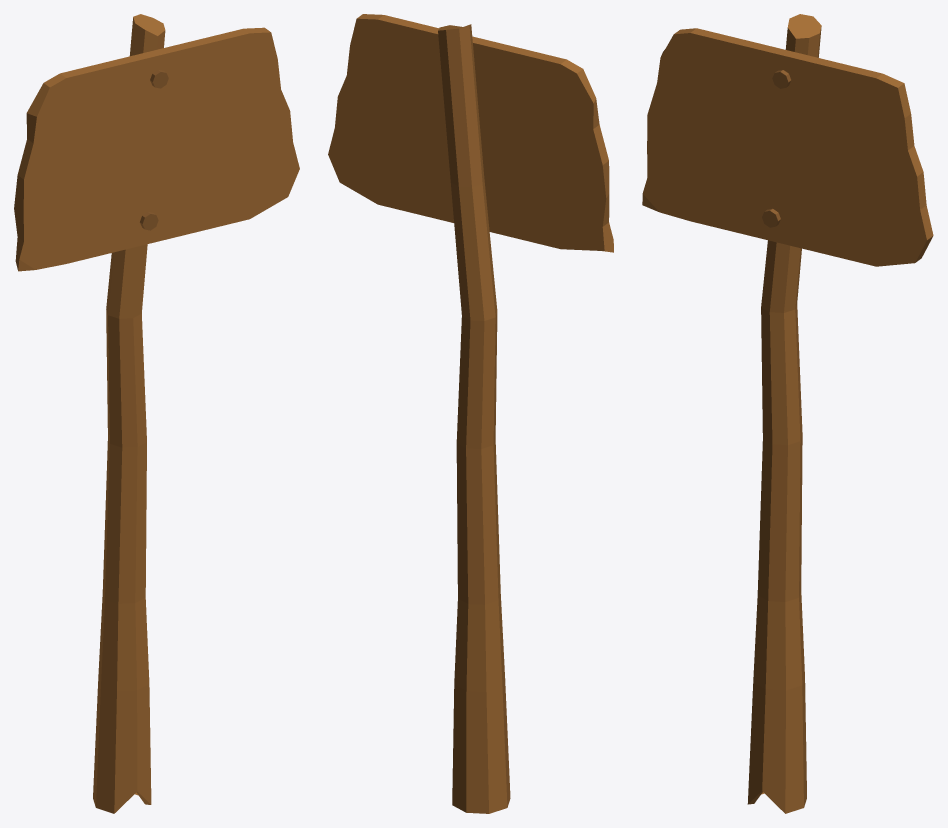
File: Petunjuk3.fbx
The picture shows the model from 3 angles, left to right: view 1: azimuth 30°, elevation 25°; view 2: azimuth 150°, elevation 25°; view 3: azimuth 330°, elevation 25°; orthographic projection.
Parts seen in each view (by area): view 1: Circle.005; view 2: Circle.005; view 3: Circle.005.
Part boxes in pixels (x1,y1,x2,y2): Circle.005: (14, 14, 299, 813); Circle.005: (328, 14, 613, 813); Circle.005: (642, 14, 933, 813).
Bounding box in the file's own units: 143 × 377 × 29.02.
